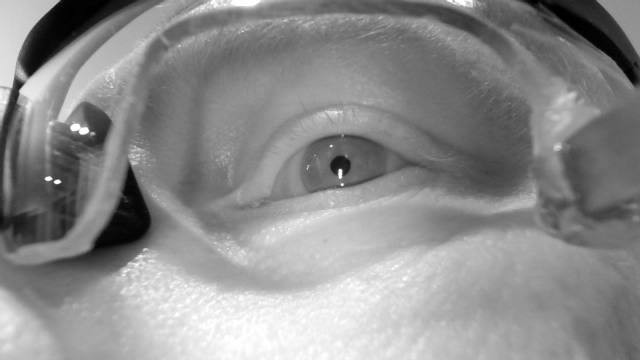pupil: (329, 155, 352, 178)
